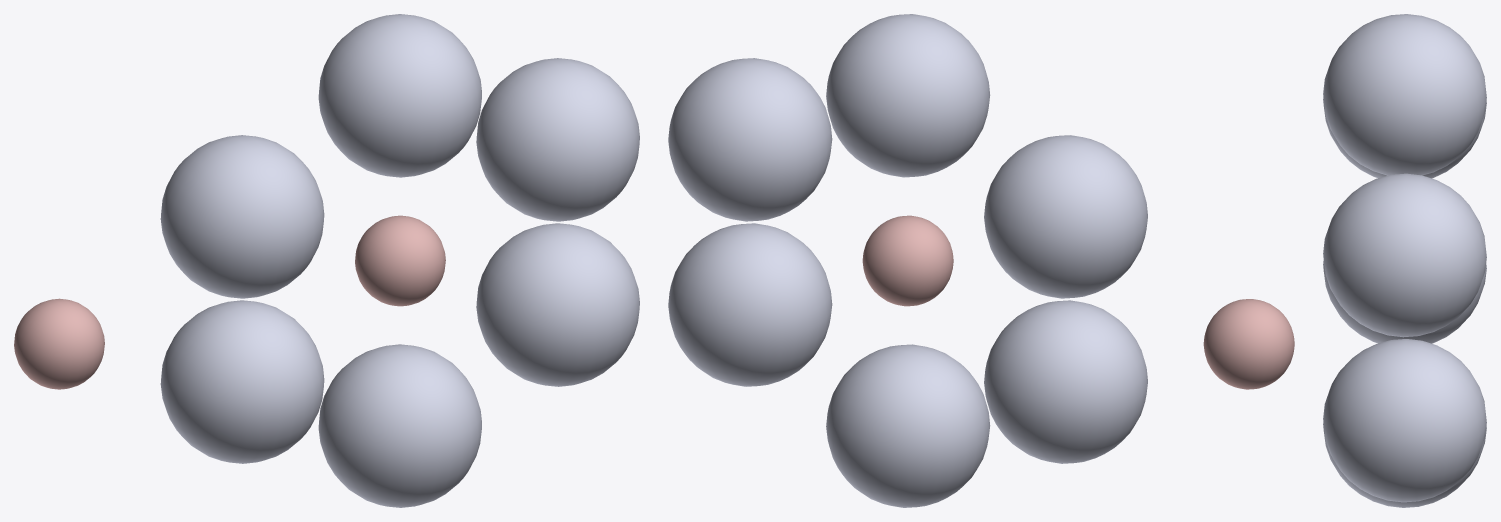
Rendered from Ebbinghaus_Large.fbx.
3 views of the same model, side by side, from view 1: azimuth 30°, elevation 25°; view 2: azimuth 150°, elevation 25°; view 3: azimuth 270°, elevation 25° (orthographic).
Parts seen in each view (by area): view 1: Sphere__5_, Sphere__6_, Sphere__7_, Sphere__4_, Sphere__3_, Sphere__2_, Sphere, Sphere__16_; view 2: Sphere__7_, Sphere__5_, Sphere__4_, Sphere__3_, Sphere__6_, Sphere__2_, Sphere, Sphere__16_; view 3: Sphere__7_, Sphere__4_, Sphere__3_, Sphere__2_, Sphere__6_, Sphere__5_.
Boxes of the visible parts, bbox=[...] form: Sphere__5_: bbox=[160, 135, 324, 298]; Sphere__6_: bbox=[318, 344, 481, 507]; Sphere__7_: bbox=[476, 223, 639, 386]; Sphere__4_: bbox=[476, 58, 639, 221]; Sphere__3_: bbox=[318, 14, 481, 177]; Sphere__2_: bbox=[160, 300, 324, 463]; Sphere: bbox=[355, 215, 445, 306]; Sphere__16_: bbox=[14, 298, 104, 389]; Sphere__7_: bbox=[668, 223, 832, 386]; Sphere__5_: bbox=[984, 135, 1147, 298]; Sphere__4_: bbox=[668, 58, 832, 221]; Sphere__3_: bbox=[826, 14, 990, 177]; Sphere__6_: bbox=[826, 344, 990, 507]; Sphere__2_: bbox=[984, 300, 1147, 463]; Sphere: bbox=[862, 215, 953, 306]; Sphere__16_: bbox=[1203, 299, 1294, 389]; Sphere__7_: bbox=[1323, 339, 1486, 502]; Sphere__4_: bbox=[1323, 173, 1486, 337]; Sphere__3_: bbox=[1323, 14, 1486, 175]; Sphere__2_: bbox=[1323, 261, 1486, 343]; Sphere__6_: bbox=[1323, 423, 1486, 507]; Sphere__5_: bbox=[1323, 98, 1486, 178].
Bounding box in the file's own units: 772 × 580 × 180.
